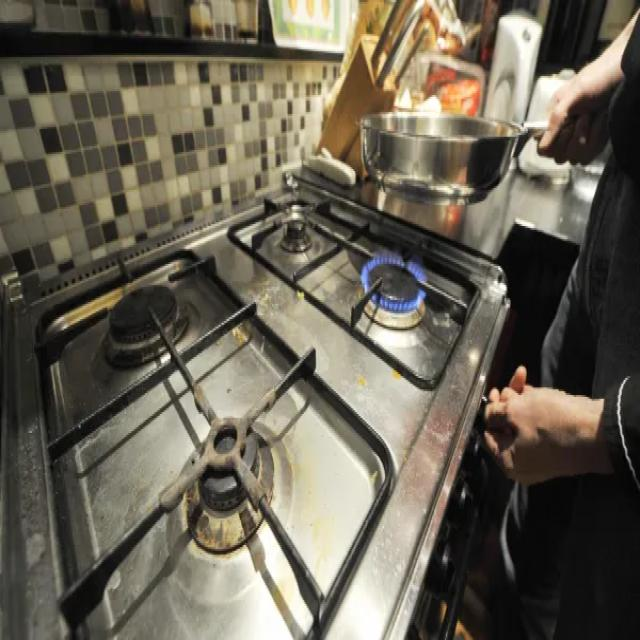knob_OFF: (332, 234, 480, 368)
knob_ON: (26, 294, 318, 621)
